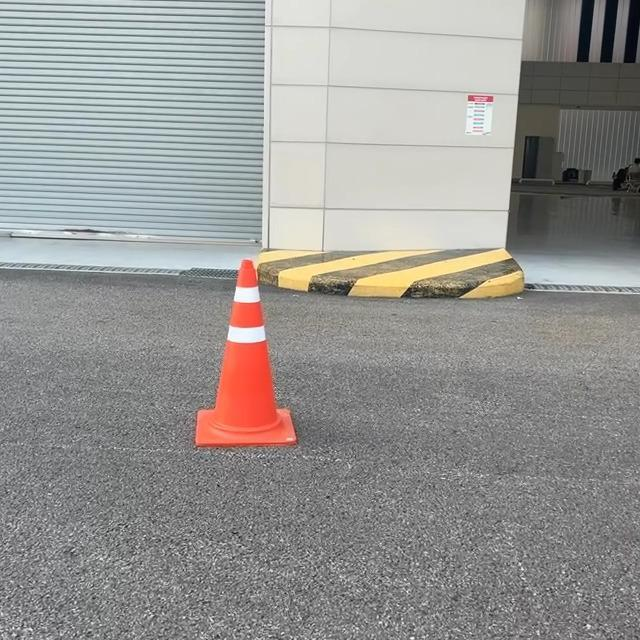fallen_object: (169, 247, 325, 470)
